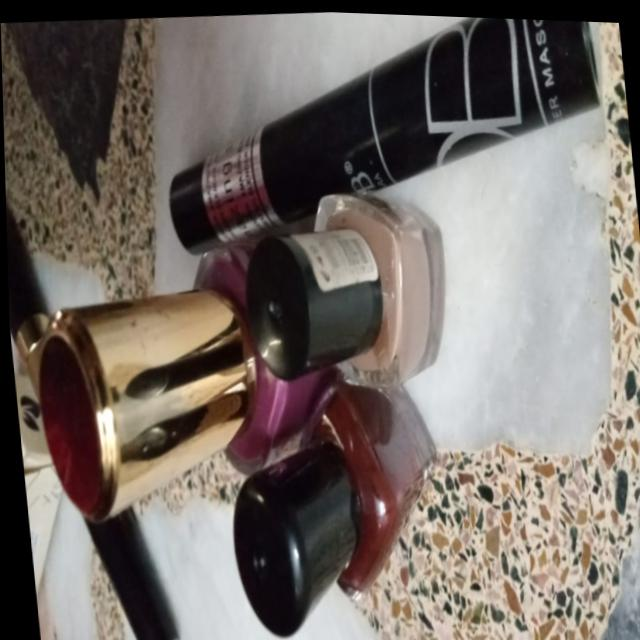mascara: (132, 4, 619, 273)
nail polish: (204, 362, 449, 640), (222, 170, 462, 398)
